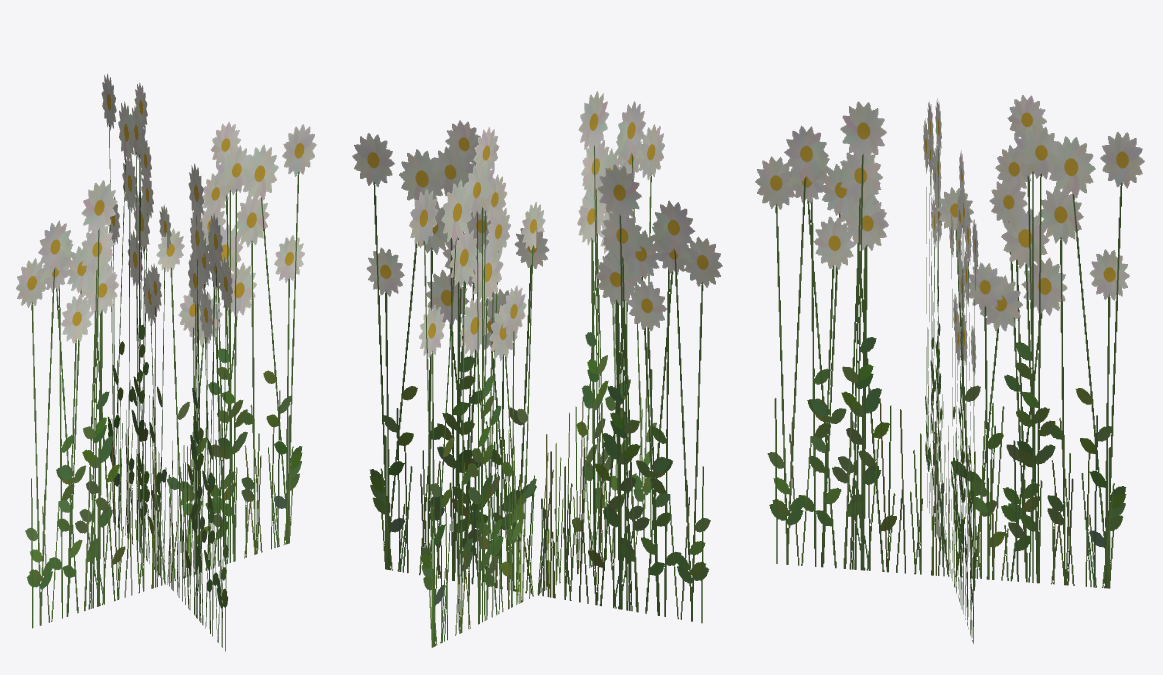
File: Flower_3_Single_LOD1.gltf
The picture shows the model from 3 angles, left to right: view 1: azimuth 30°, elevation 25°; view 2: azimuth 150°, elevation 25°; view 3: azimuth 270°, elevation 25°; orthographic projection. The views are drawn at different scales.
Parts seen in each view (by area): view 1: Flower_3_Single_LOD1; view 2: Flower_3_Single_LOD1; view 3: Flower_3_Single_LOD1.
Boxes of the visible parts, box(x1,y1,x2,y2) form: Flower_3_Single_LOD1: box(16, 73, 316, 651); Flower_3_Single_LOD1: box(352, 91, 722, 647); Flower_3_Single_LOD1: box(755, 95, 1144, 643).
Size of the model in its own units: 0.2788 by 0.3945 by 0.2774.
1 material, 1 textured.
